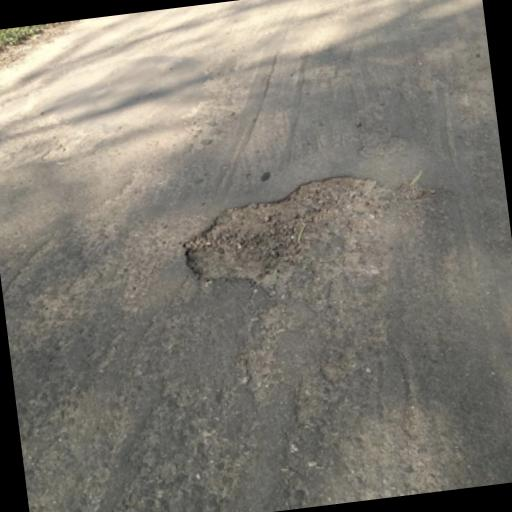pothole: (174, 166, 408, 306)
